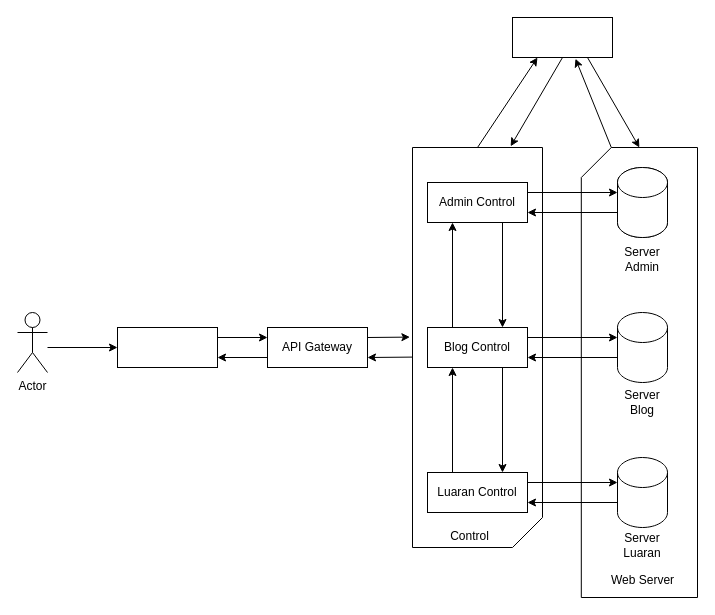
Image size: 715x615. Some labels were removed from this diagram. Each missing label, with the centre of its shape:
Manajer Control: the point at 562,37
User Interface: the point at 167,347
